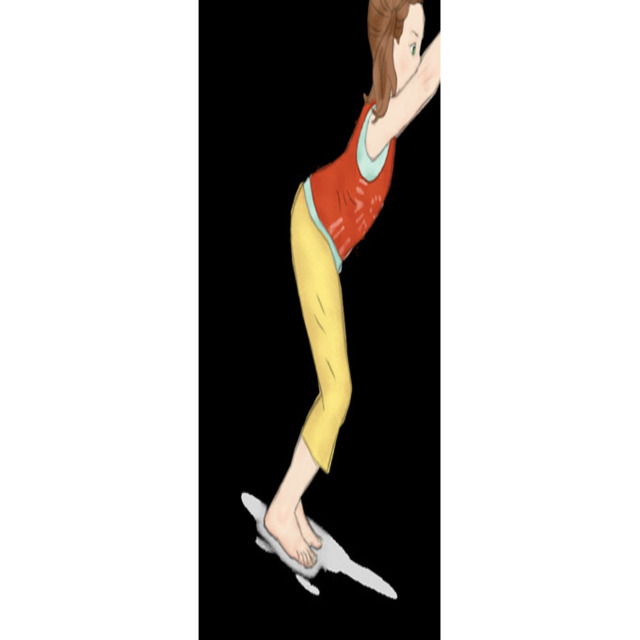Squat_Pose: (264, 1, 440, 569)
